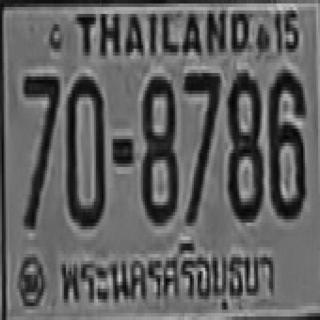N00: (66, 73, 104, 226)
N06: (268, 66, 304, 215)
N07: (23, 73, 58, 226), (183, 70, 218, 222)
N08: (226, 71, 262, 217), (141, 75, 177, 221)
P03: (56, 240, 278, 314)
